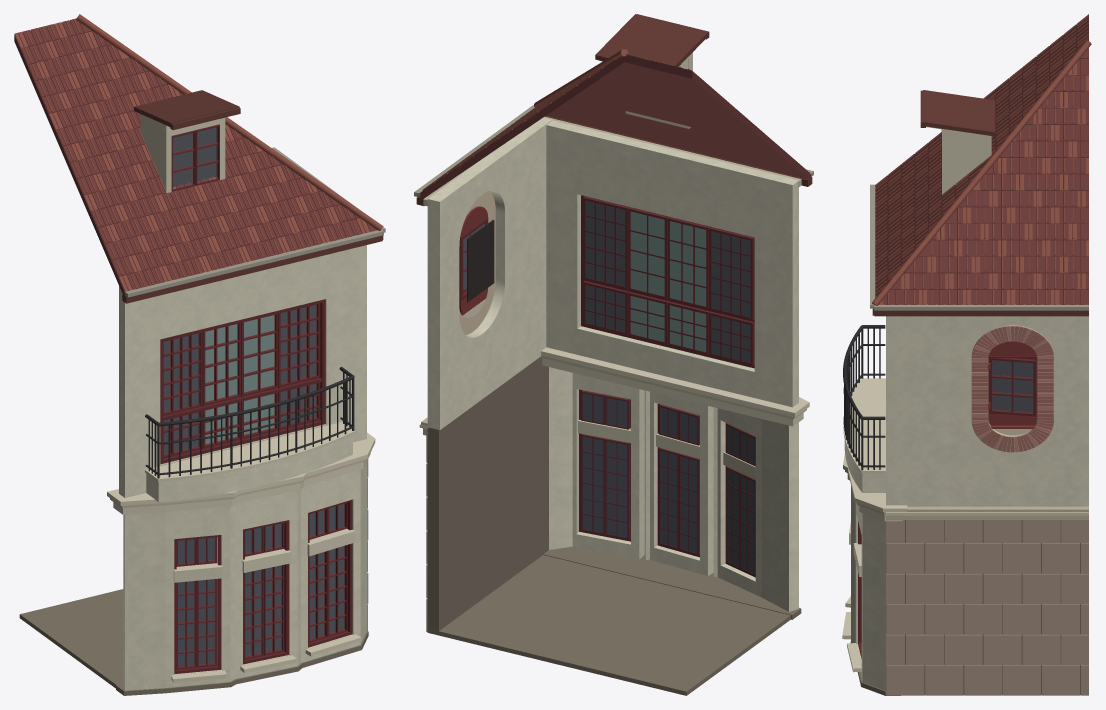
The model's file is yangpu-yangshupu-3061-end-balcony-and-oval-window-raw.glb.
The picture shows the model from 3 angles, left to right: view 1: azimuth 30°, elevation 25°; view 2: azimuth 150°, elevation 25°; view 3: azimuth 270°, elevation 25°; orthographic projection. The views are drawn at different scales.
Parts seen in each view (by area): view 1: 杨树浦路3061弄住宅端部阳台与椭圆砖窗; view 2: 杨树浦路3061弄住宅端部阳台与椭圆砖窗; view 3: 杨树浦路3061弄住宅端部阳台与椭圆砖窗.
Part boxes in pixels (x1=…): 杨树浦路3061弄住宅端部阳台与椭圆砖窗: x1=14, y1=14, x2=385, y2=695; 杨树浦路3061弄住宅端部阳台与椭圆砖窗: x1=414, y1=14, x2=813, y2=695; 杨树浦路3061弄住宅端部阳台与椭圆砖窗: x1=842, y1=14, x2=1091, y2=695.
Size of the model in its own units: 4.8 by 10.33 by 4.1.
Materials: 20 (1 with a texture image).
